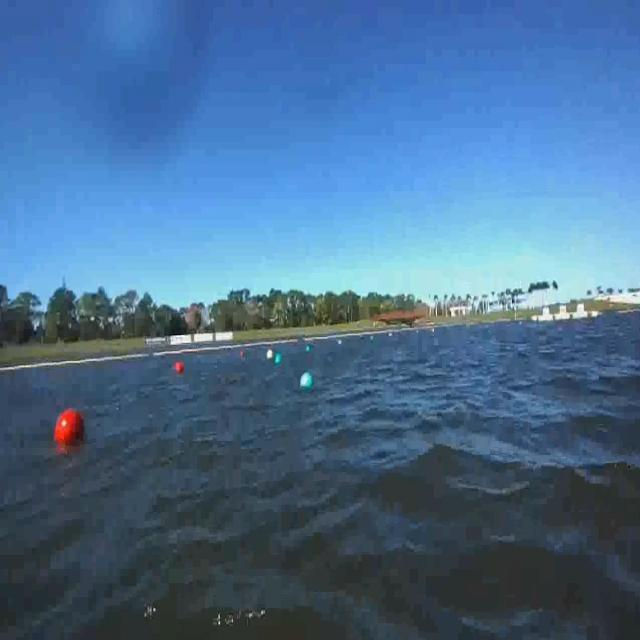green-buoy: (302, 370, 315, 392), (275, 352, 283, 366)
red-buoy: (56, 408, 89, 448), (175, 360, 184, 373)
